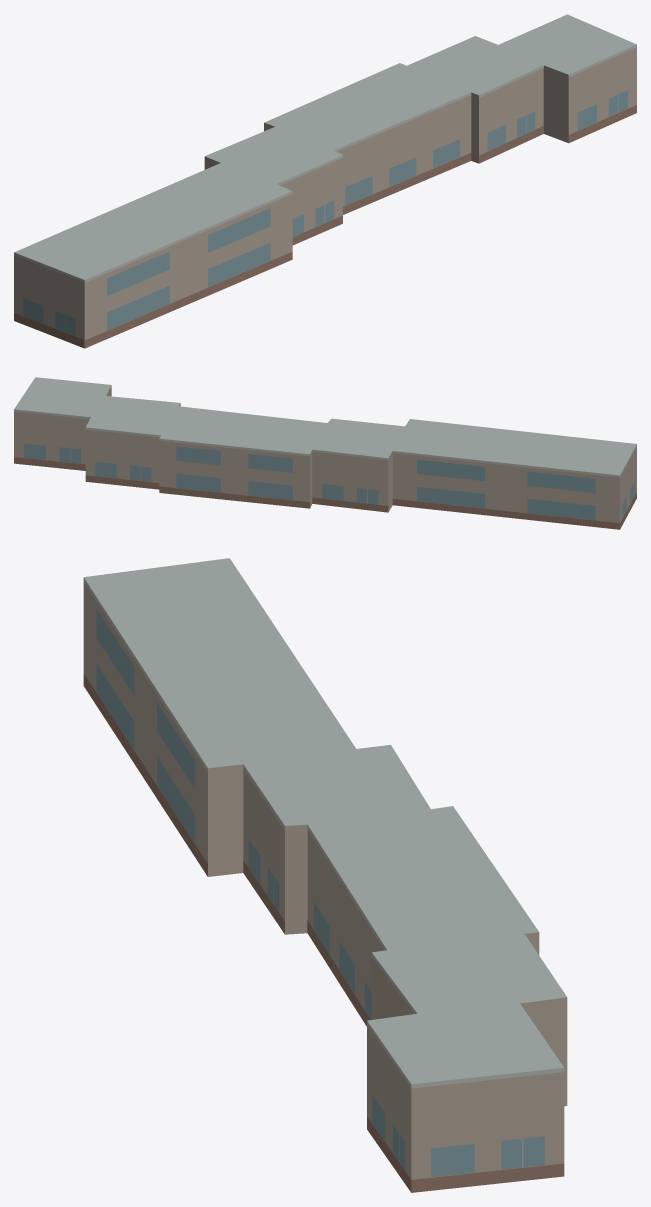
Rendered from survey-upis-32525103.glb.
3 renders of one model, top to bottom at view 1: azimuth 30°, elevation 25°; view 2: azimuth 150°, elevation 25°; view 3: azimuth 270°, elevation 25°, orthographic. The views are drawn at different scales.
Parts seen in each view (by area): view 1: survey-upis-32525103.tmp; view 2: survey-upis-32525103.tmp; view 3: survey-upis-32525103.tmp.
Part boxes in pixels (left/top/right/bottom): survey-upis-32525103.tmp: left=14, top=14, right=636, bottom=348; survey-upis-32525103.tmp: left=14, top=377, right=636, bottom=529; survey-upis-32525103.tmp: left=83, top=558, right=567, bottom=1192.
Bounding box in the file's own units: 63.37 × 6.1 × 24.62.
